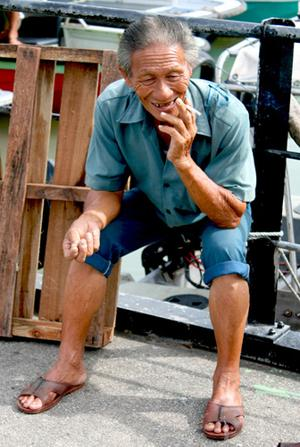person: (21, 12, 258, 438)
